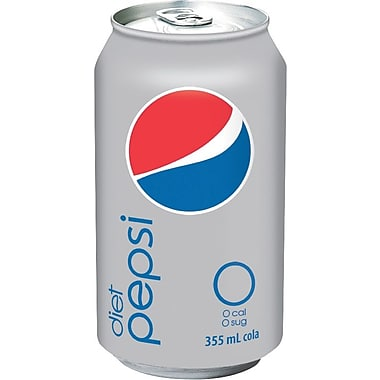pepsi: (123, 83, 253, 213)
